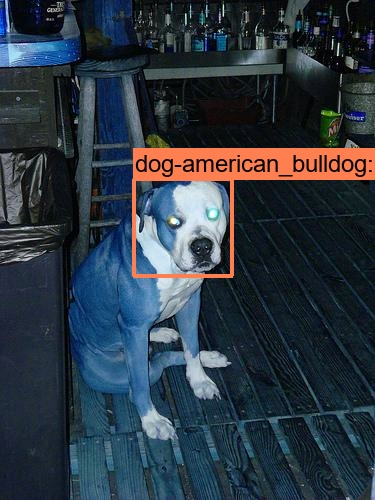dog-american_bulldog: (131, 177, 229, 272)
